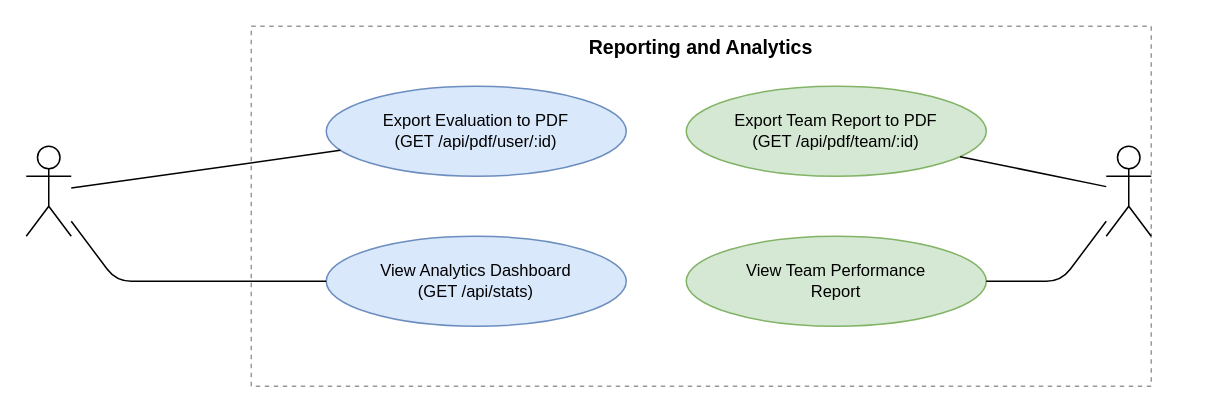
Some shapes in this 1208 by 413 pixel diagram are drawn without their labels. Here are the shapes that lost their labels. From the top down, the centre of each, then its label:
At (x=48, y=190): "HR".
At (x=1128, y=190): "Team Leader".
